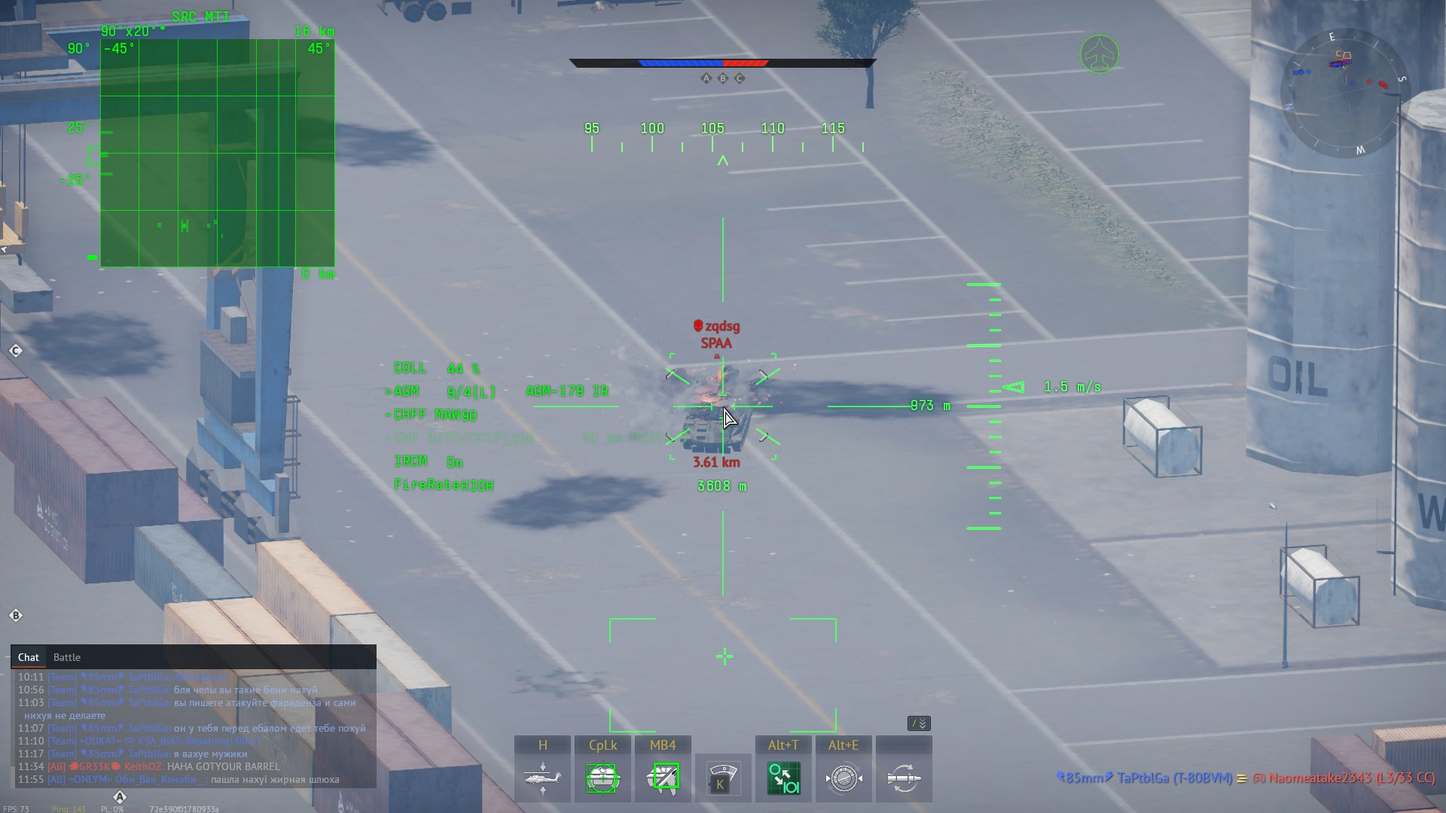spaa_zsu-23: (681, 366, 764, 453)
